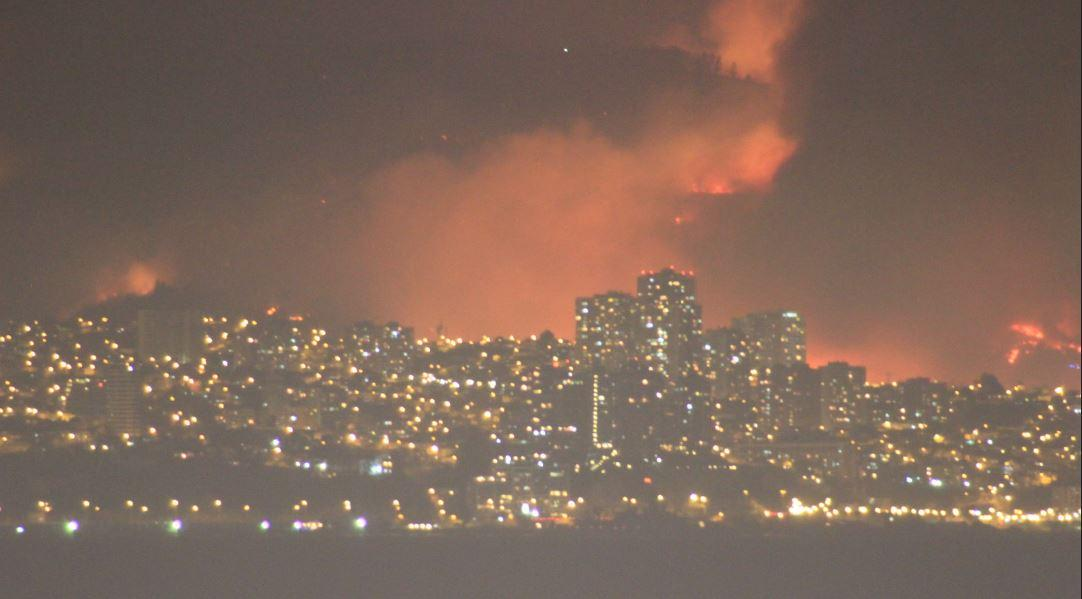Fire: (1000, 312, 1070, 373), (685, 180, 734, 199)
